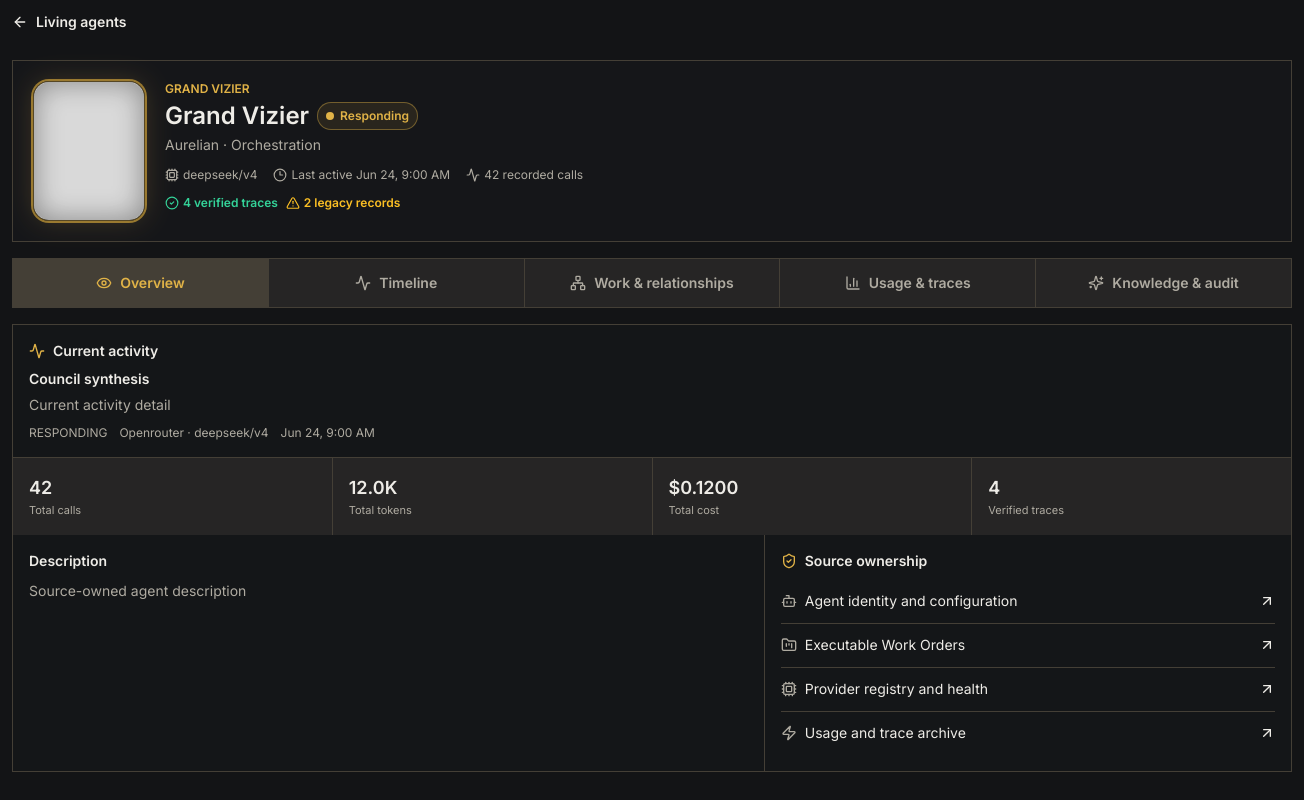
LivingAgentProfilePage evidence workspace › keeps usage, traces, and legacy attribution explicit
Expected: the heading "Grand Vizier" is shown, x1=165 y1=101 x2=309 y2=131
Click the button "Usage & traces" at (908, 283), box x1=780 y1=259 x2=1035 y2=307
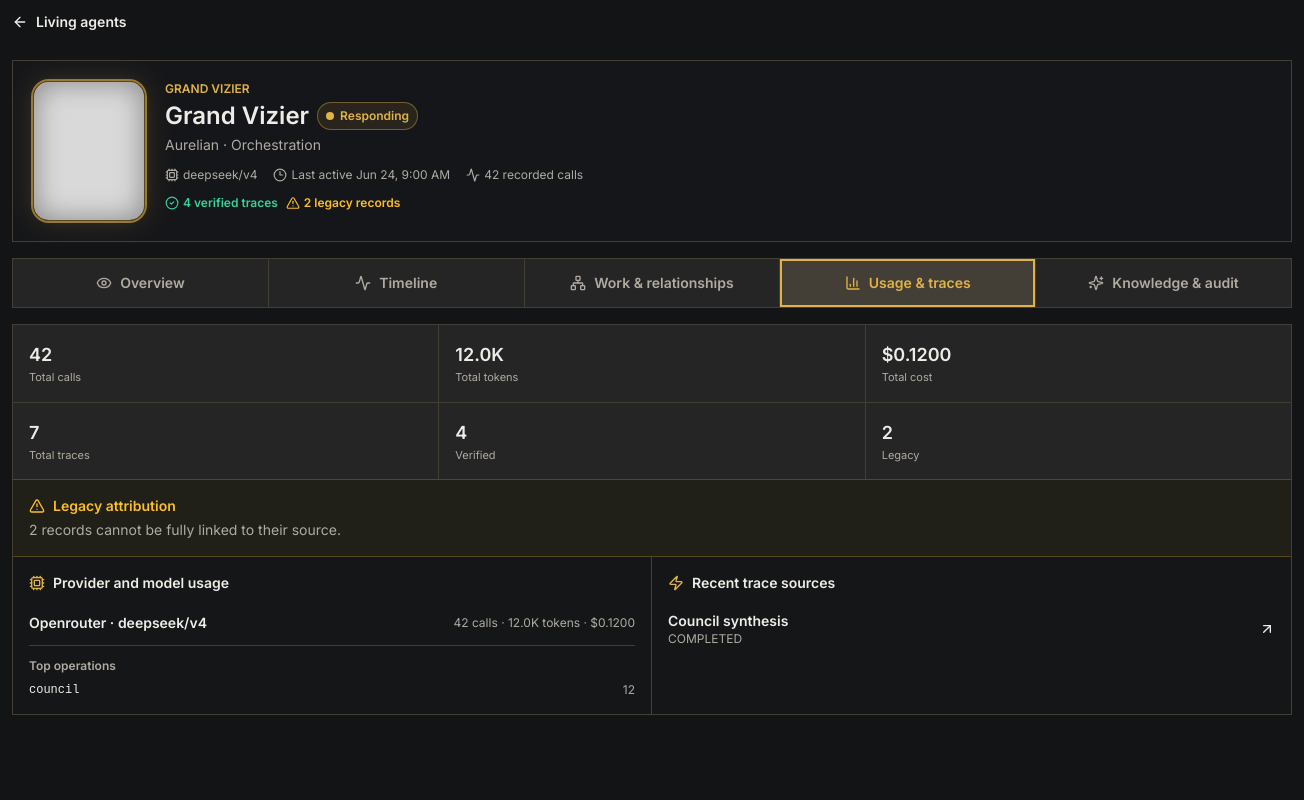
Expected: the text "deepseek/v4" is shown, x1=165 y1=167 x2=257 y2=183
Result: the heading "Legacy attribution" is shown at x1=29 y1=497 x2=176 y2=514
Result: the text "2 records cannot be fully linked to their source." is shown at x1=29 y1=521 x2=341 y2=538
